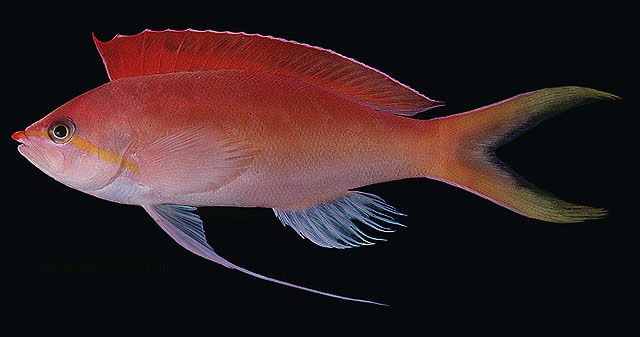fish: (11, 28, 621, 307)
